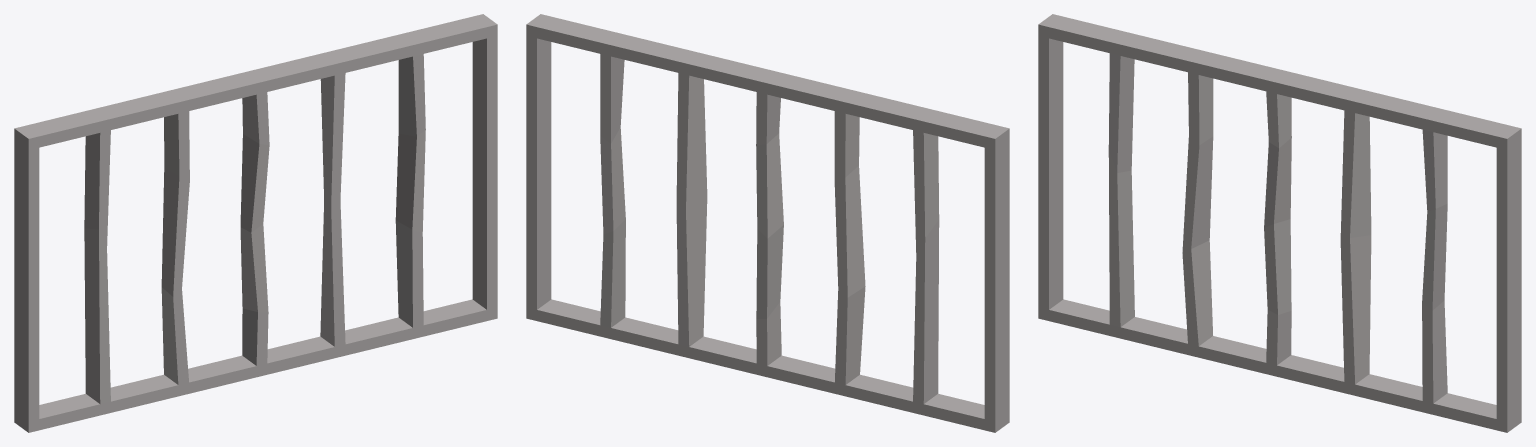
The model's file is SM_Bld_Window_Bars_03.glb.
3 views of the same model, side by side, from view 1: azimuth 30°, elevation 25°; view 2: azimuth 150°, elevation 25°; view 3: azimuth 330°, elevation 25° (orthographic).
Visible parts, largest first — view 1: SM_Bld_Window_Bars_03; view 2: SM_Bld_Window_Bars_03; view 3: SM_Bld_Window_Bars_03.
Part boxes in pixels (x1,y1,x2,y2): SM_Bld_Window_Bars_03: (14, 14, 497, 432); SM_Bld_Window_Bars_03: (526, 14, 1009, 432); SM_Bld_Window_Bars_03: (1038, 14, 1521, 432).
Bounding box in the file's own units: 2 × 1.2 × 0.1128.
1 material, 1 textured.
